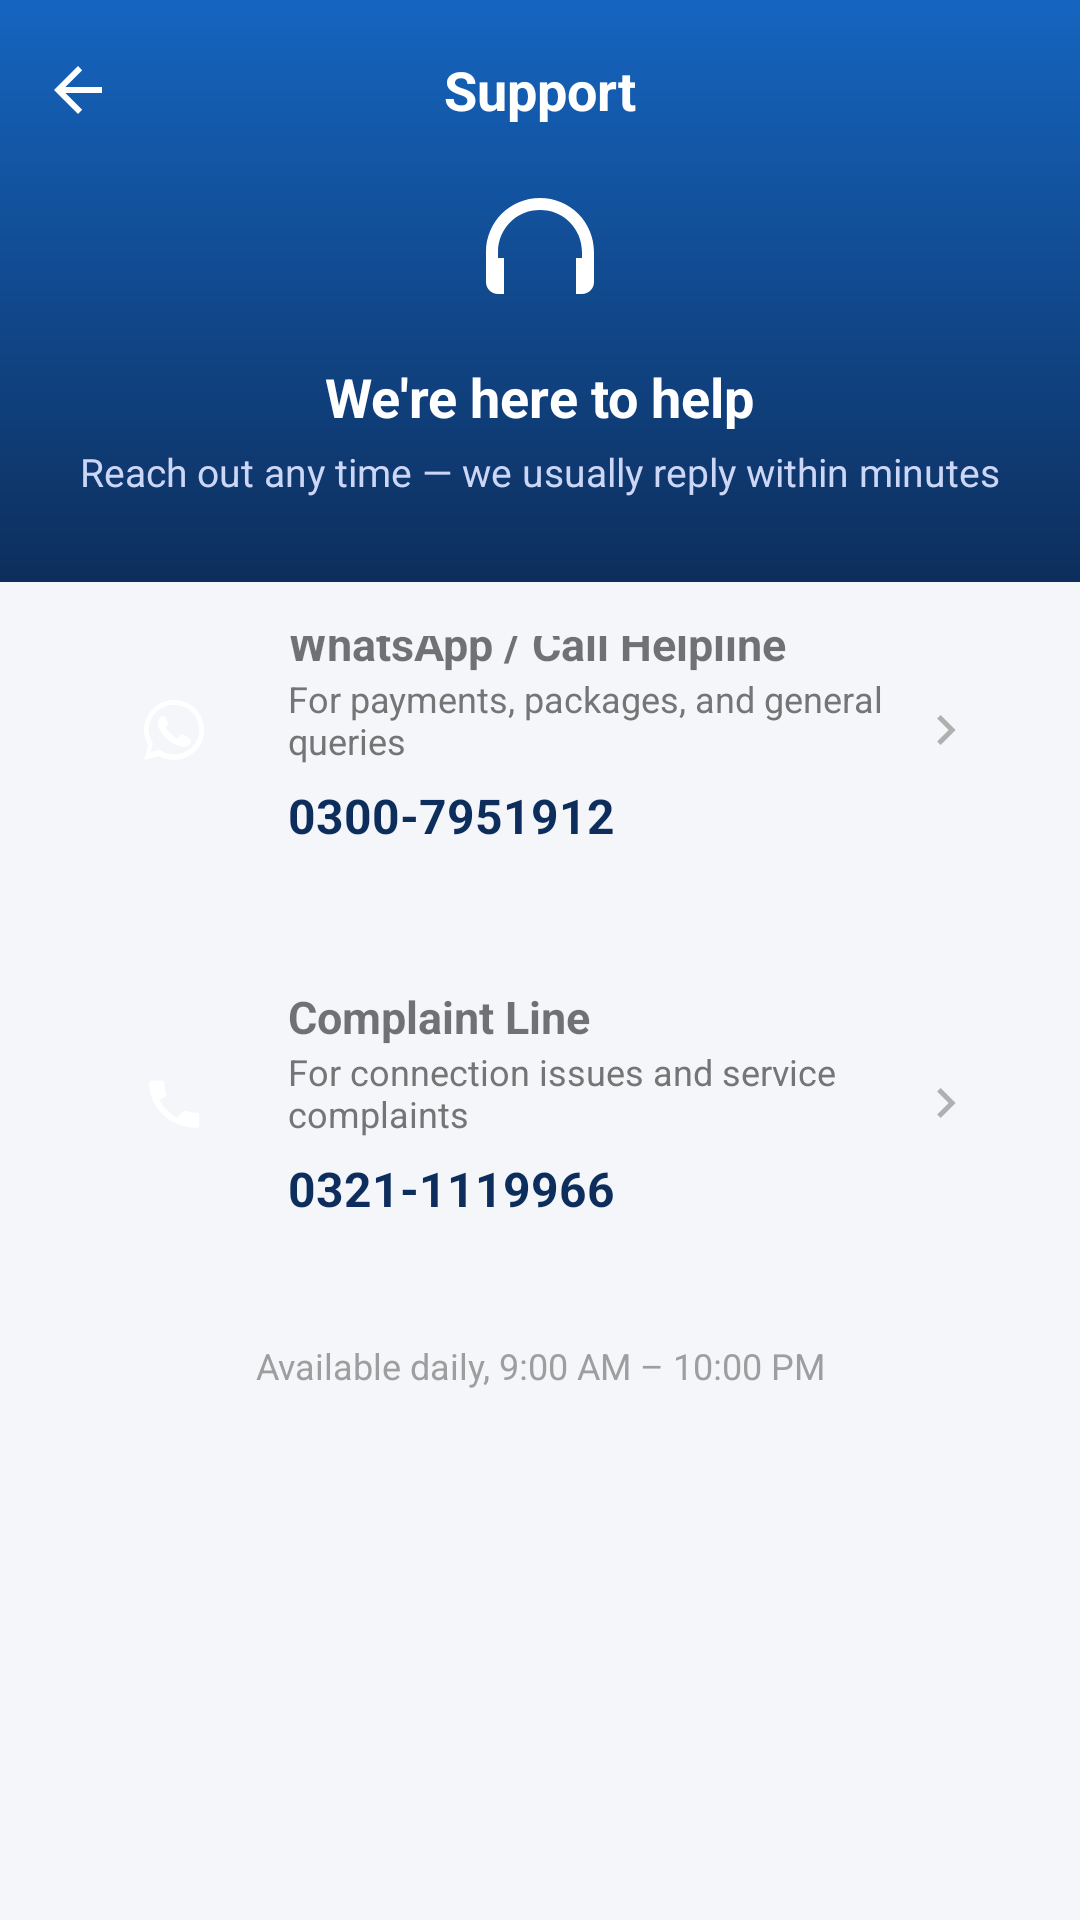

Icon bounding boxes for this 1080w x 1920h phone screenshot, format (x1, y1, x2, y2):
arrow back: (54, 66, 102, 114)
chevron right: (937, 715, 955, 745), (937, 1088, 955, 1118)
headset: (468, 198, 612, 324)
